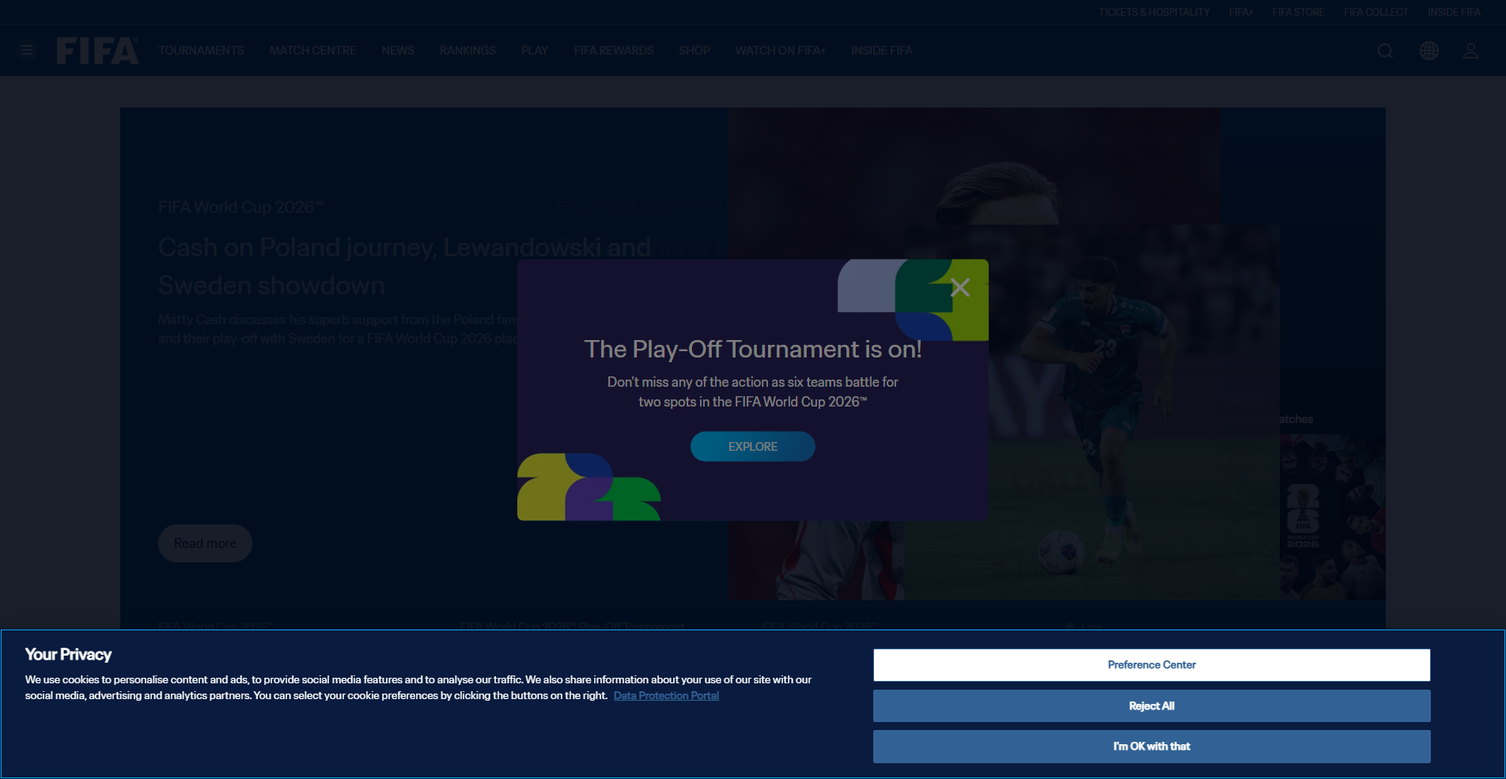button: (0, 629, 1506, 779), (828, 629, 1491, 779), (873, 649, 1431, 682), (873, 689, 1431, 722), (873, 730, 1431, 763), (460, 619, 744, 681), (762, 619, 1046, 681), (158, 619, 441, 681), (1065, 619, 1348, 681), (1367, 619, 1506, 681), (690, 431, 816, 462), (158, 524, 253, 562), (1455, 35, 1487, 66), (1365, 619, 1379, 681), (1417, 39, 1441, 62), (16, 40, 38, 62), (21, 45, 32, 47), (21, 49, 32, 51), (21, 53, 32, 55)
dropdown: (1403, 39, 1455, 62), (1417, 39, 1441, 62)
link: (728, 108, 1220, 600), (1220, 108, 1386, 600), (158, 228, 715, 304), (791, 228, 1348, 304), (791, 228, 1348, 266), (791, 231, 1348, 269), (690, 431, 816, 474), (57, 25, 139, 76), (614, 689, 719, 702), (1099, 6, 1210, 18), (1329, 739, 1386, 758), (269, 45, 356, 56), (574, 45, 654, 56), (1344, 6, 1409, 18), (1428, 6, 1481, 18), (1273, 6, 1325, 18), (440, 45, 496, 56), (382, 45, 414, 56), (1229, 6, 1254, 18), (1378, 43, 1397, 58)
